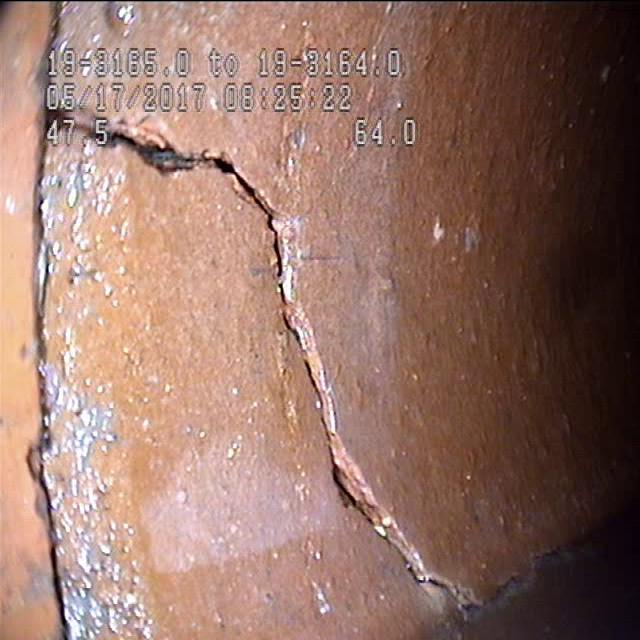Crack: (153, 127, 369, 573)
